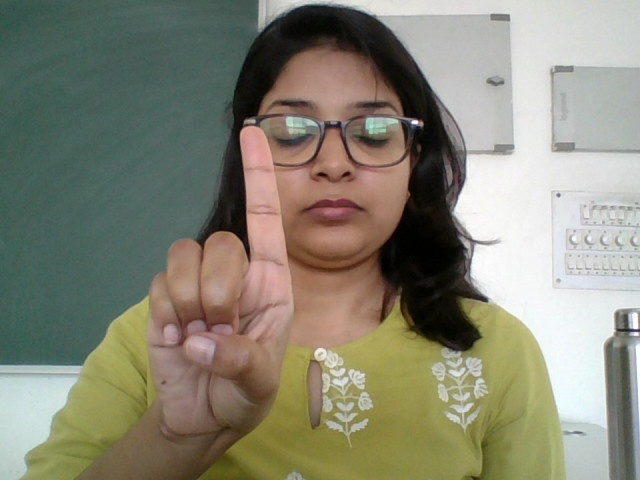D: (136, 124, 303, 457)
